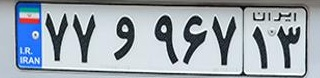character: (150, 12, 181, 68), (180, 10, 210, 67), (210, 12, 240, 68), (108, 11, 138, 66), (274, 22, 305, 73), (71, 11, 99, 65), (44, 9, 70, 63), (249, 24, 274, 71)
